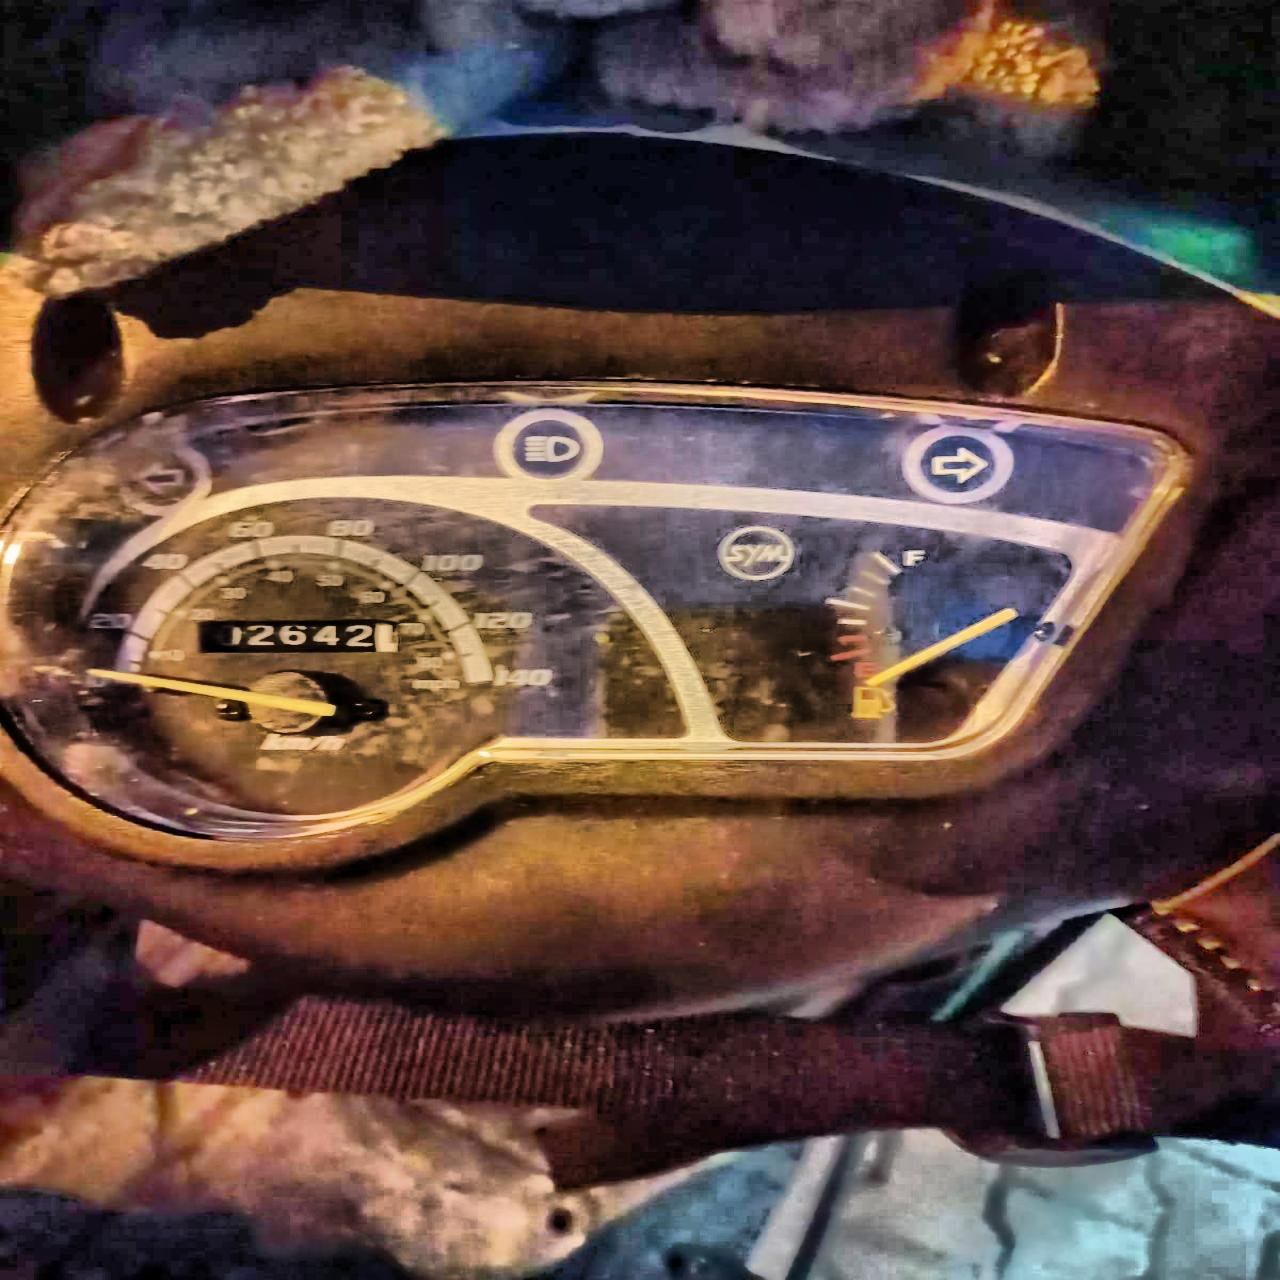0: (212, 622, 241, 649)
1: (385, 620, 399, 650)
2: (244, 622, 275, 648), (346, 622, 373, 650)
4: (315, 622, 340, 646)
6: (278, 621, 308, 646)
odometer: (197, 615, 402, 658)
